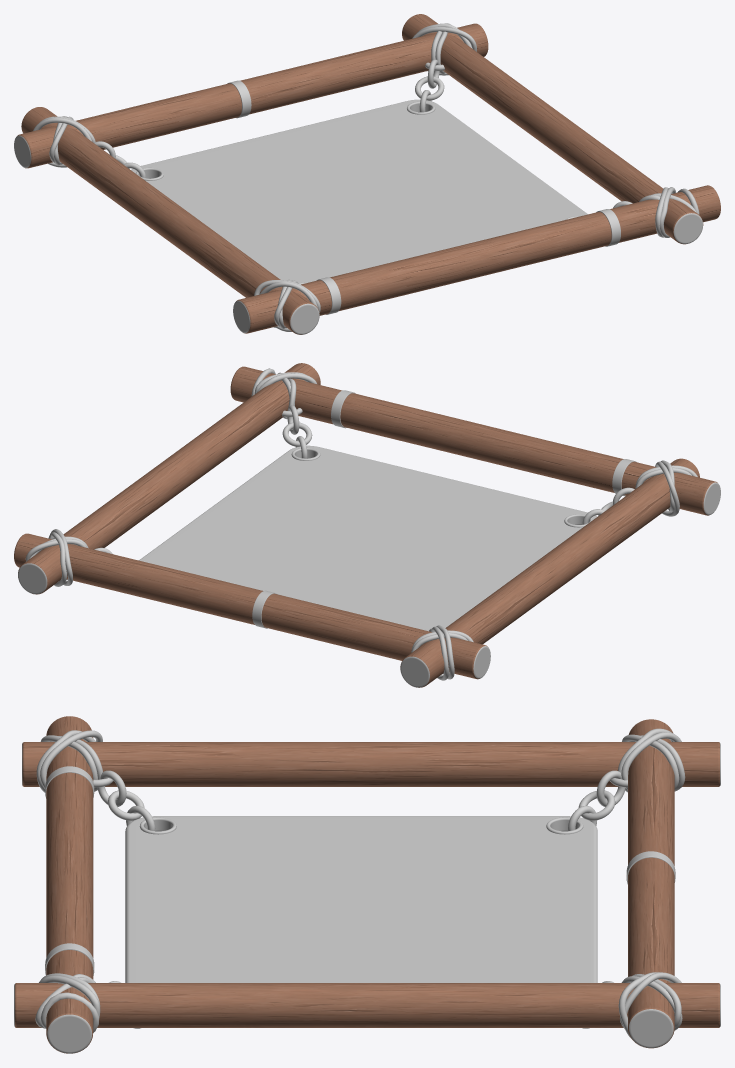
Rendered from SM_Trampoline_01.fbx.
3 renders of one model, top to bottom at view 1: azimuth 30°, elevation 25°; view 2: azimuth 150°, elevation 25°; view 3: azimuth 270°, elevation 25°, orthographic. The views are drawn at different scales.
Visible parts, largest first — view 1: SM_Trampoline_01; view 2: SM_Trampoline_01; view 3: SM_Trampoline_01.
Part boxes in pixels (box(x1,y1,x2,y2)): SM_Trampoline_01: box(14, 14, 720, 334); SM_Trampoline_01: box(14, 363, 720, 687); SM_Trampoline_01: box(14, 716, 720, 1053).
Size of the model in its own units: 800 by 800 by 103.
7 materials, 1 textured.
